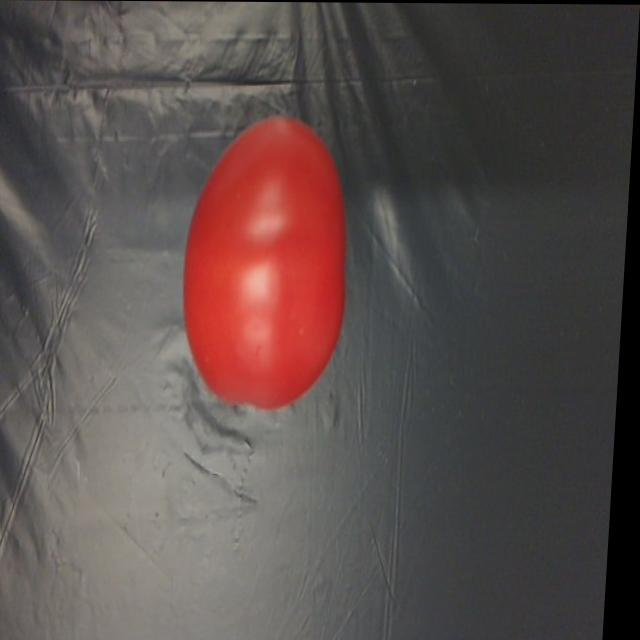kirmizi: (185, 95, 353, 412)
